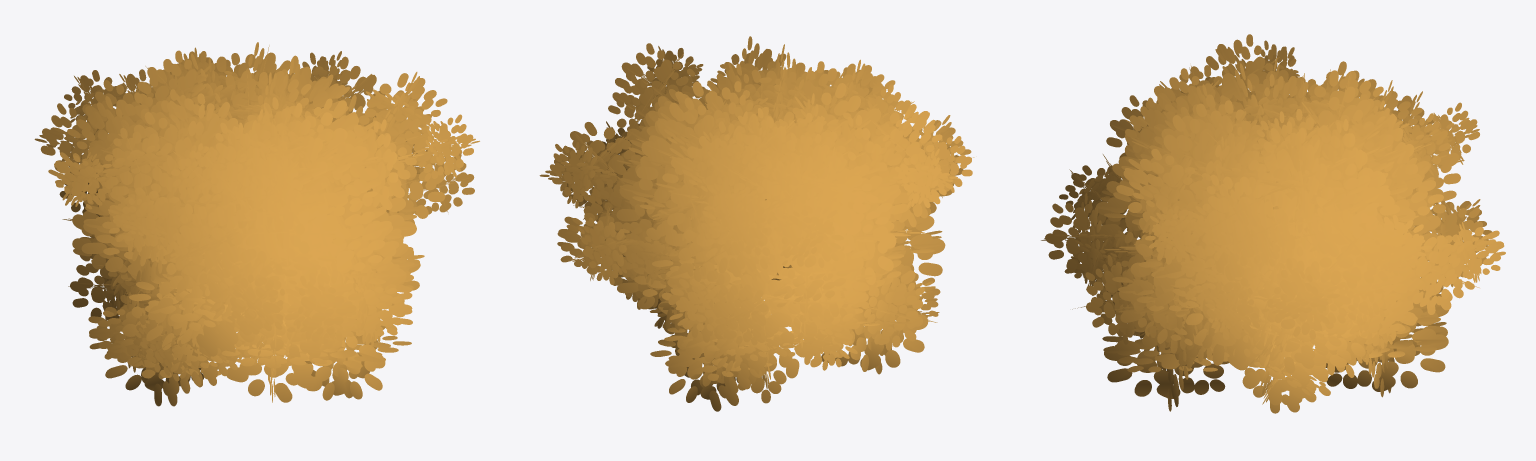
Rendered from Tumbleweed.glb.
3 views of the same model, side by side, from view 1: azimuth 30°, elevation 25°; view 2: azimuth 150°, elevation 25°; view 3: azimuth 270°, elevation 25° (orthographic). The views are drawn at different scales.
Parts seen in each view (by area): view 1: Bush_Common; view 2: Bush_Common; view 3: Bush_Common.
Boxes of the visible parts, <box> form: Bush_Common: <box>34,42,479,406</box>; Bush_Common: <box>539,36,974,411</box>; Bush_Common: <box>1041,34,1505,413</box>.
Size of the model in its own units: 1.91 by 1.58 by 1.97.
Materials: 1 (1 with a texture image).
